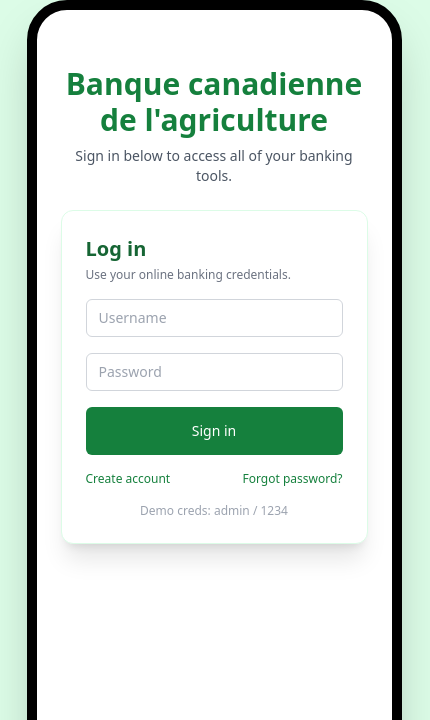
Test: App › processes a transfer and records the transaction
The image size is (430, 720).
Type "admin" into the field with placeholder "Username".
click(214, 318); type("admin")  # box [86,299,342,337]
Type "1234" into the password field with placeholder "Password".
click(214, 372); type("1234")  # box [86,353,342,391]
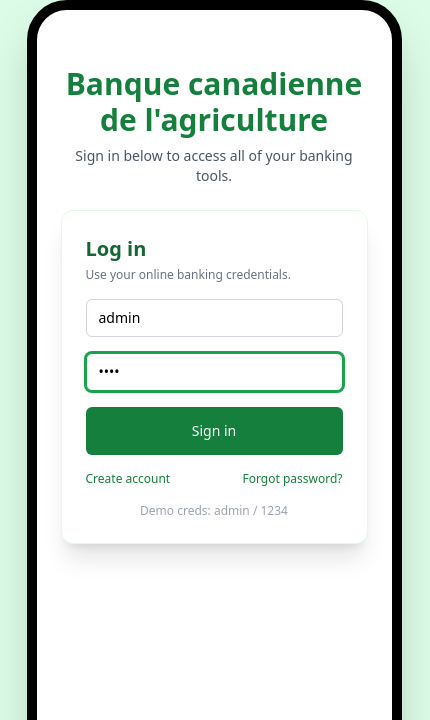
Click the button "Sign in".
click(214, 431)  # box [86,407,342,455]
(page scrolled)
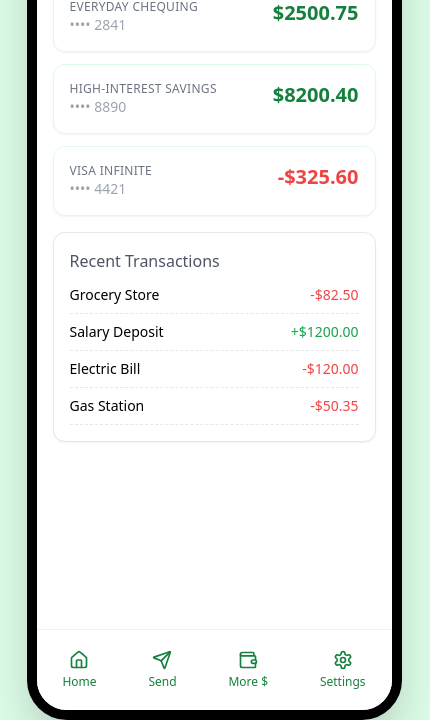
Click the button "Send".
click(162, 670)  # box [136,642,189,698]
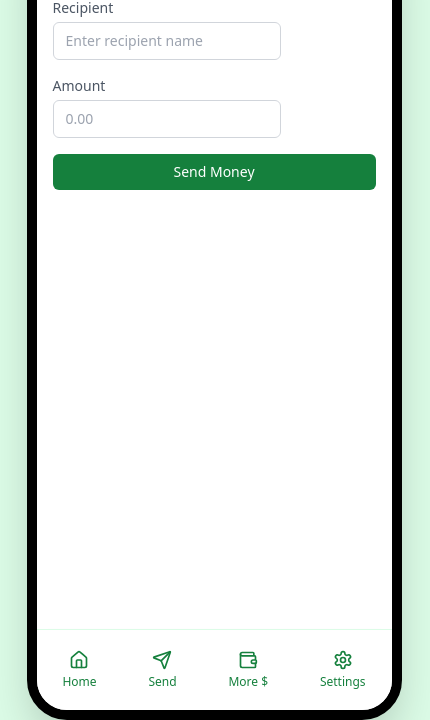
Type "Alice" into the field with placeholder "Enter recipient name".
click(166, 41); type("Alice")  # box [52,22,280,60]
Type "100" into the number field with placeholder "0.00".
click(166, 119); type("100")  # box [52,100,280,138]
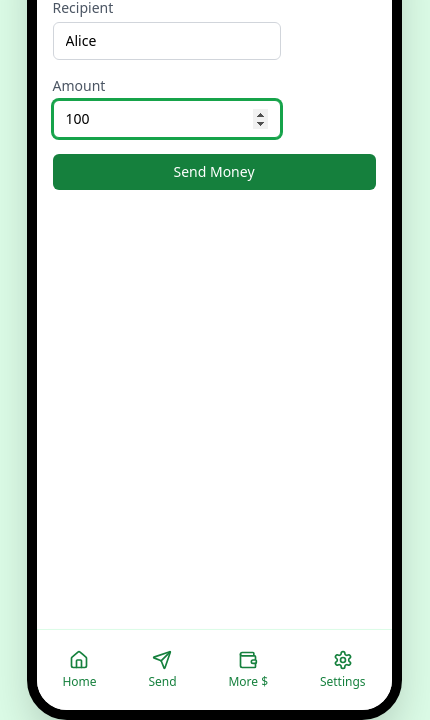
Click the button "Send Money".
click(214, 172)  # box [52,154,376,190]
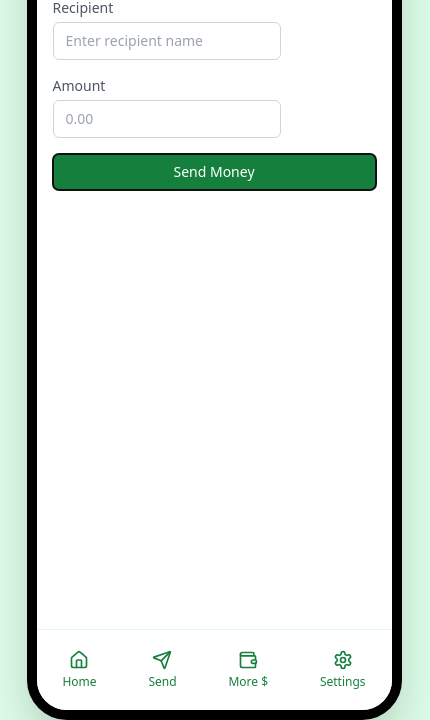
Click the button "Home".
click(79, 670)  # box [50,642,108,698]
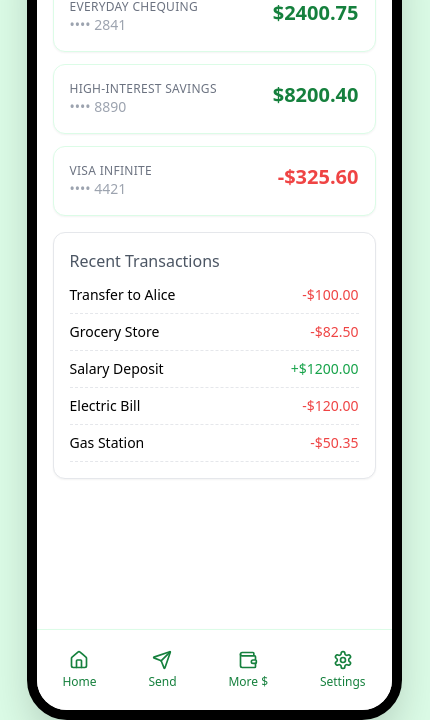
Check: the text "Transfer to Alice" is shown, box [70,285,175,305]
